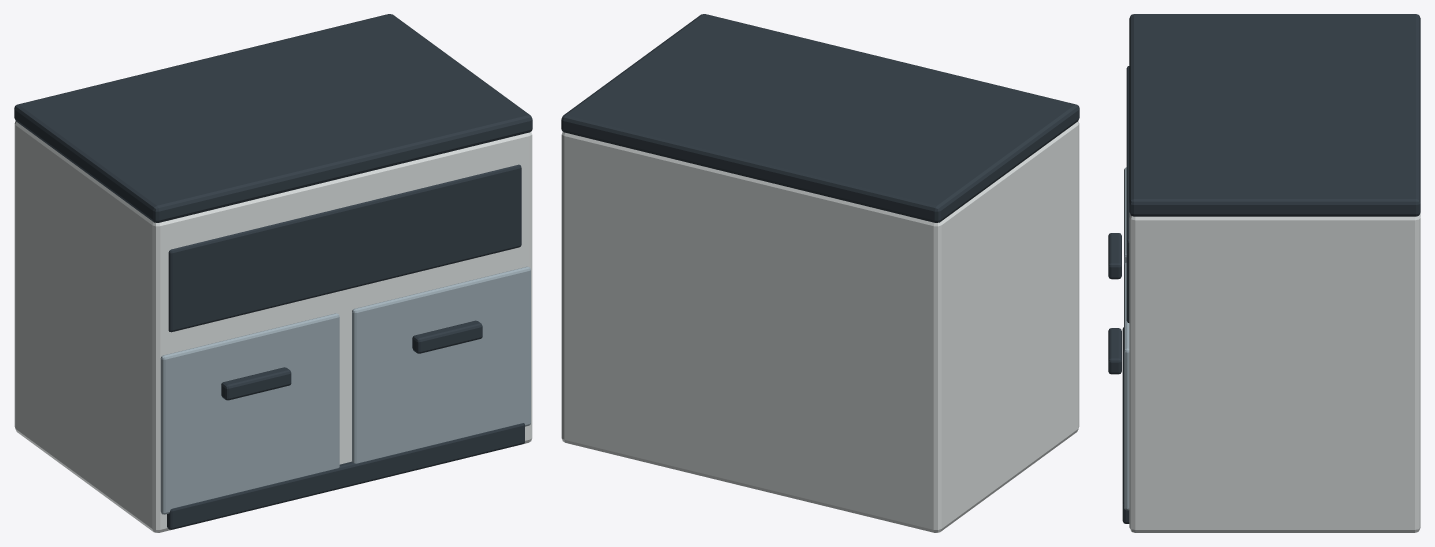
The model's file is storage-cabinet.glb.
3 views of the same model, side by side, from view 1: azimuth 30°, elevation 25°; view 2: azimuth 150°, elevation 25°; view 3: azimuth 270°, elevation 25° (orthographic).
Parts seen in each view (by area): view 1: Cabinet shell, Countertop, Drawer recess, Lower door, Lower door.001, Toe kick, Handle, Handle.001; view 2: Cabinet shell, Countertop; view 3: Cabinet shell, Countertop, Lower door.001, Drawer recess, Handle.001, Handle, Toe kick.
Boxes of the visible parts, x1,y1,x2,y2 form: Cabinet shell: (14, 121, 532, 532); Countertop: (14, 14, 532, 222); Drawer recess: (168, 164, 521, 332); Lower door: (160, 313, 339, 514); Lower door.001: (352, 266, 530, 463); Toe kick: (167, 423, 524, 529); Handle: (221, 367, 291, 400); Handle.001: (412, 320, 482, 353); Cabinet shell: (561, 121, 1079, 532); Countertop: (561, 14, 1079, 222); Cabinet shell: (1129, 212, 1420, 532); Countertop: (1129, 14, 1420, 216); Lower door.001: (1124, 262, 1129, 510); Drawer recess: (1126, 66, 1129, 322); Handle.001: (1108, 328, 1121, 374); Handle: (1108, 233, 1121, 279); Toe kick: (1122, 327, 1129, 523).
Bounding box in the file's own units: 1.15 × 0.95 × 0.8045.
